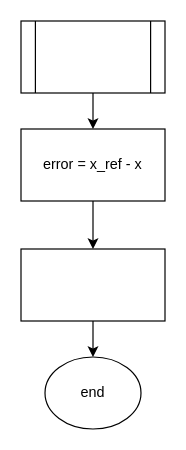
The diagram is 186 pixels wide and 450 high, and some of its shapes have lost their labels. Each missing label, with the centre of its shape:
"Proportional controller" goes at point (92, 56).
"w = K_p * error" goes at point (92, 284).
